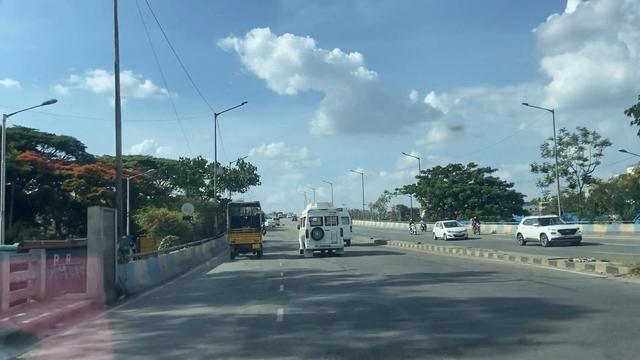HMV: (303, 201, 345, 251), (223, 201, 260, 254)
